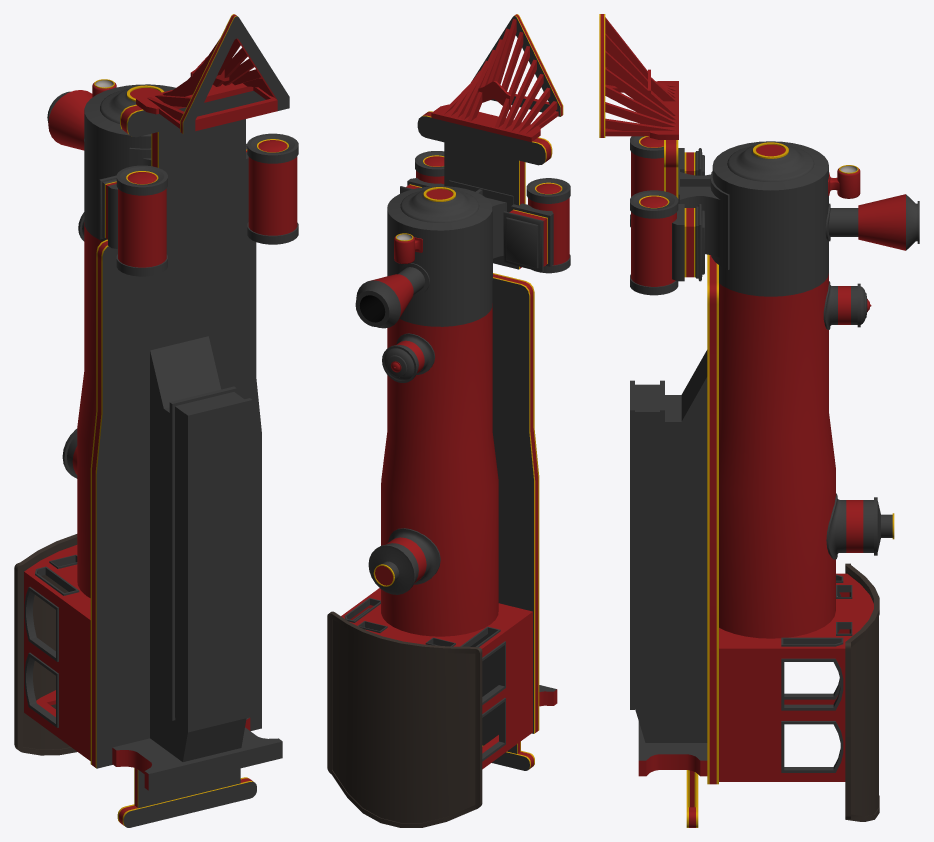
File: SteamLocomotive_01_LOD2.fbx
The picture shows the model from 3 angles, left to right: view 1: azimuth 30°, elevation 25°; view 2: azimuth 150°, elevation 25°; view 3: azimuth 270°, elevation 25°; orthographic projection. The views are drawn at different scales.
Visible parts, largest first — view 1: SteamLocomotive_01_LOD2; view 2: SteamLocomotive_01_LOD2; view 3: SteamLocomotive_01_LOD2.
Boxes of the visible parts, x1,y1,x2,y2 form: SteamLocomotive_01_LOD2: [14, 14, 298, 827]; SteamLocomotive_01_LOD2: [327, 14, 570, 827]; SteamLocomotive_01_LOD2: [599, 14, 919, 827].
Size of the model in its own units: 3.34 by 15.03 by 5.5.
